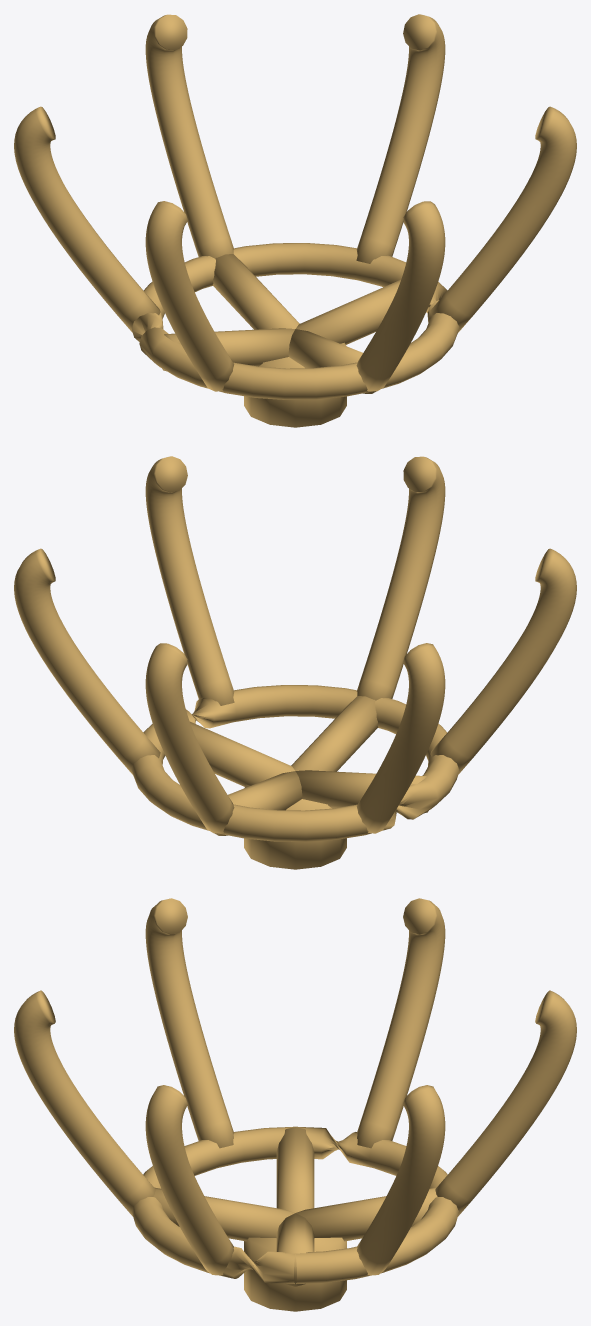
Rendered from demo-round-1-6-prong.glb.
3 views of the same model, one above another, from view 1: azimuth 30°, elevation 25°; view 2: azimuth 150°, elevation 25°; view 3: azimuth 270°, elevation 25° (orthographic).
Parts seen in each view (by area): view 1: Metal.015, Metal.016, Metal.017, Metal.021, Metal.018, Metal.020, Metal.019, Metal.013, Metal.011, Metal.010, Metal.012, Metal.014; view 2: Metal.015, Metal.021, Metal.020, Metal.016, Metal.019, Metal.017, Metal.018, Metal.014, Metal.011, Metal.010, Metal.012, Metal.013; view 3: Metal.015, Metal.018, Metal.019, Metal.017, Metal.020, Metal.021, Metal.016, Metal.010, Metal.012, Metal.013, Metal.014, Metal.011.
Boxes of the visible parts, x1,y1,x2,y2 form: Metal.015: (132,243,459,399); Metal.016: (356,14,445,263); Metal.017: (145,14,234,258); Metal.021: (430,106,576,332); Metal.018: (14,106,160,332); Metal.020: (356,201,445,391); Metal.019: (145,201,234,391); Metal.013: (212,254,299,329); Metal.011: (296,279,400,344); Metal.010: (244,342,346,427); Metal.012: (162,328,295,371); Metal.014: (288,329,376,393); Metal.015: (131,685,458,841); Metal.021: (145,456,234,705); Metal.020: (356,456,445,700); Metal.016: (14,548,160,774); Metal.019: (430,548,576,774); Metal.017: (145,643,234,833); Metal.018: (356,643,445,833); Metal.014: (291,696,378,771); Metal.011: (190,721,294,786); Metal.010: (244,784,346,869); Metal.012: (295,770,428,813); Metal.013: (214,771,302,835); Metal.015: (132,1126,458,1283); Metal.018: (357,898,445,1148); Metal.019: (145,898,233,1148); Metal.017: (435,990,576,1216); Metal.020: (14,990,155,1216); Metal.021: (145,1085,233,1275); Metal.016: (357,1085,445,1275); Metal.010: (244,1237,346,1311); Metal.012: (276,1127,314,1212); Metal.013: (296,1187,437,1241); Metal.014: (153,1187,294,1241); Metal.011: (276,1213,314,1286).
Size of the model in its own units: 6.23 by 4.16 by 7.12.
